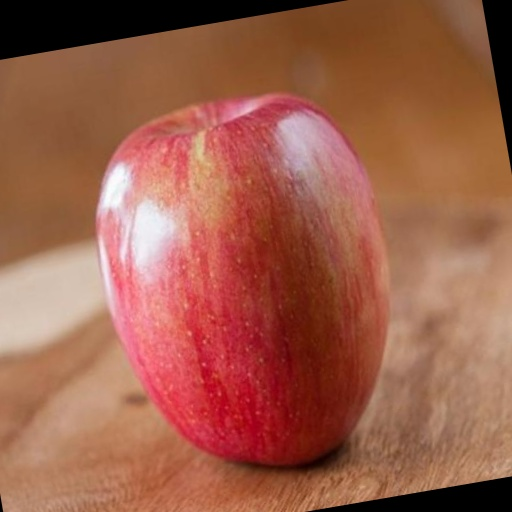fruit: (96, 95, 388, 465)
